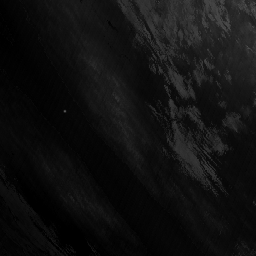Target: (62, 108, 67, 113)
